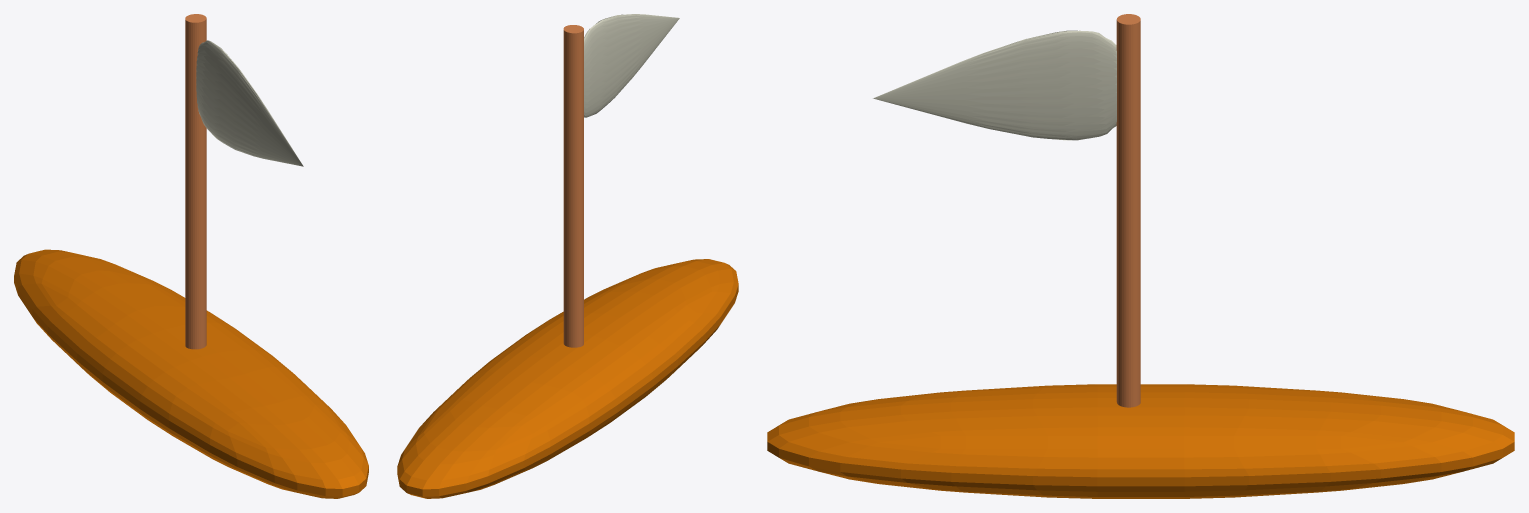
File: Sailboat.fbx
The picture shows the model from 3 angles, left to right: view 1: azimuth 30°, elevation 25°; view 2: azimuth 150°, elevation 25°; view 3: azimuth 270°, elevation 25°; orthographic projection. The views are drawn at different scales.
Visible parts, largest first — view 1: Cube, Cylinder, Cone; view 2: Cube, Cylinder, Cone; view 3: Cube, Cone, Cylinder.
Part boxes in pixels (<box>): Cube: <box>14,249,368,498</box>; Cylinder: <box>185,14,206,349</box>; Cone: <box>196,40,303,166</box>; Cube: <box>397,259,738,498</box>; Cylinder: <box>563,25,583,347</box>; Cone: <box>584,14,679,117</box>; Cube: <box>767,384,1514,498</box>; Cone: <box>873,30,1116,140</box>; Cylinder: <box>1116,14,1140,407</box>.
Size of the model in its own units: 375 by 1001 by 1471.
